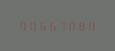eight: (77, 20, 86, 31), (87, 20, 96, 31)
nine: (17, 20, 26, 31)
seven: (57, 20, 66, 31)
six: (37, 20, 46, 31), (47, 20, 56, 31)
zero: (27, 20, 36, 31), (67, 20, 76, 31)
